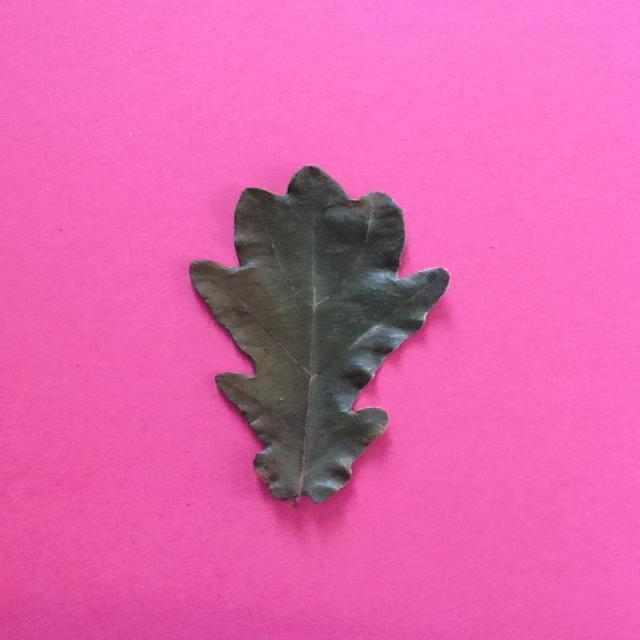foliage: (186, 158, 452, 514)
